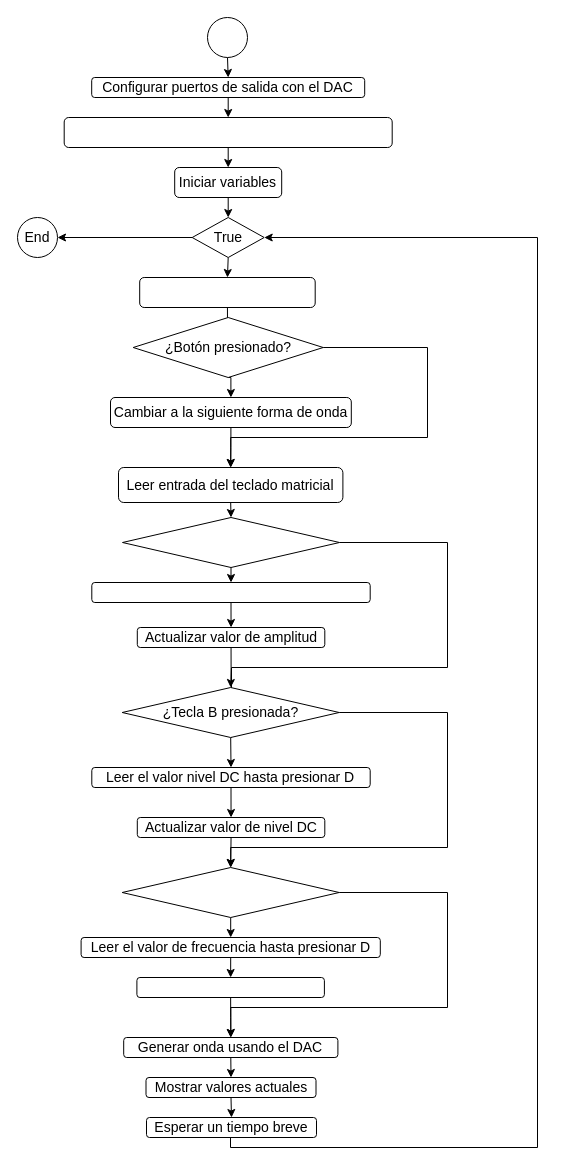
Image size: 563x1173. Some labels were removed from this diagram. The centre of each missing label's shape, as x and y in pixels:
Actualizar valor de frecuencia: point 230,987
Configurar entradas del teclado matricial y el botón: point 227,132
Leer el estado del botón: point 227,292
Leer el valor de amplitud hasta presionar D: point 230,592
Start: point 227,37
¿Tecla A presionada?: point 231,542
¿Tecla C presionada?: point 230,892
